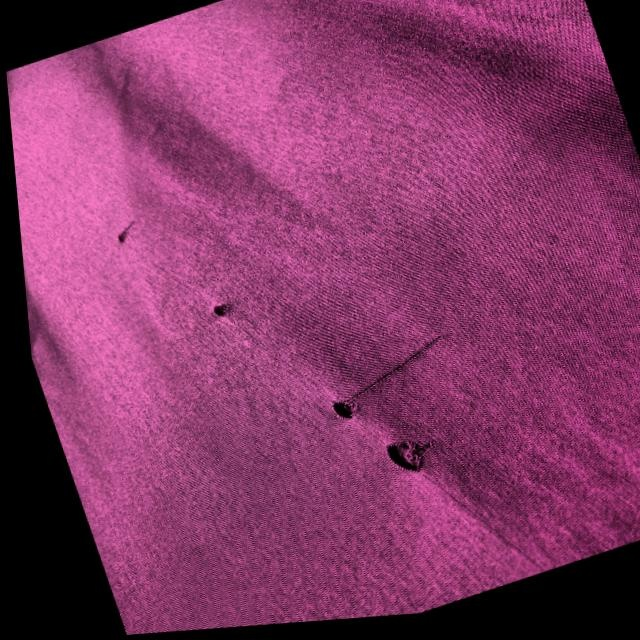Stitch: (301, 300, 480, 449), (110, 207, 151, 256)
